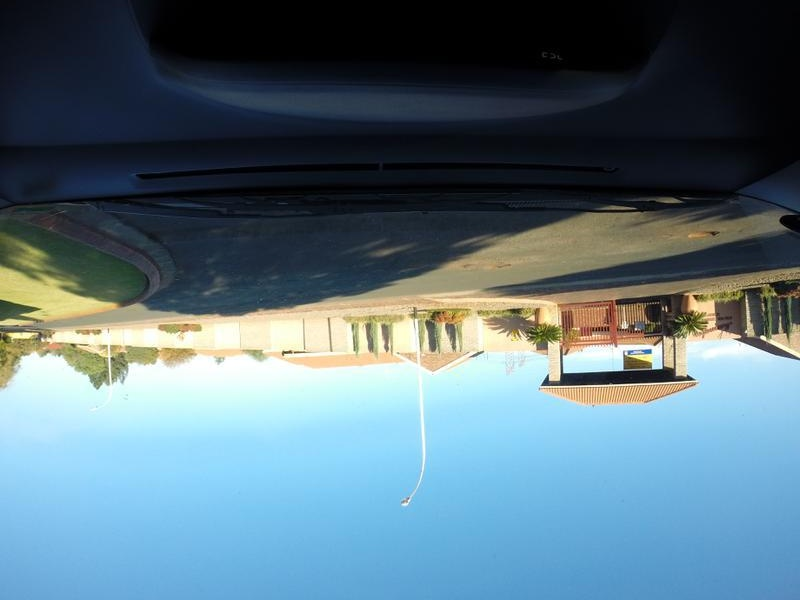pothole: (663, 211, 732, 246), (452, 254, 516, 276)
